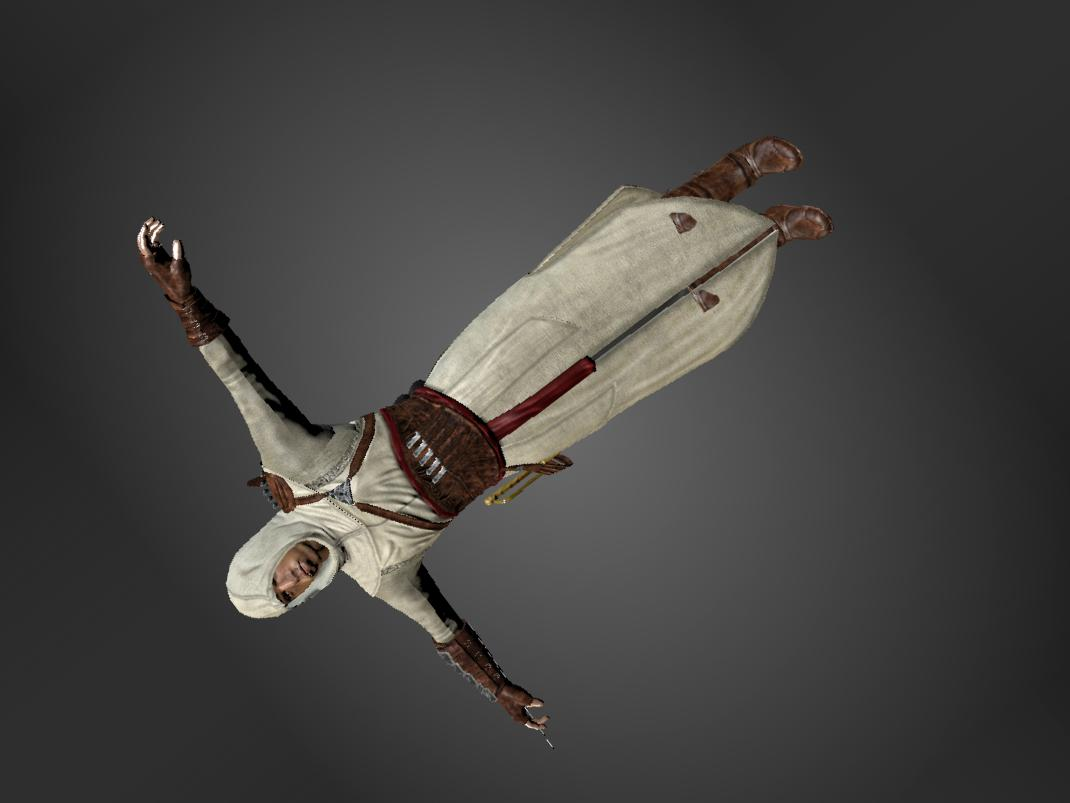clip: (668, 208, 703, 237), (694, 291, 724, 314)
